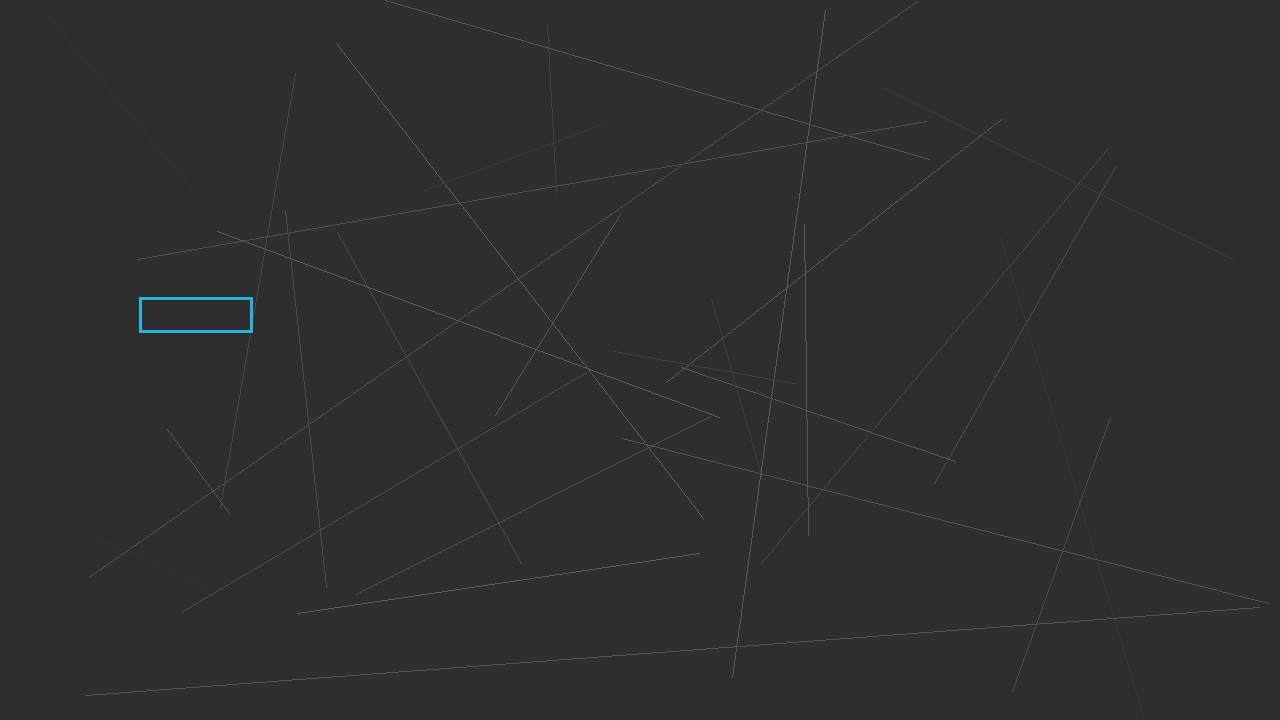D40: (139, 297, 252, 332)
